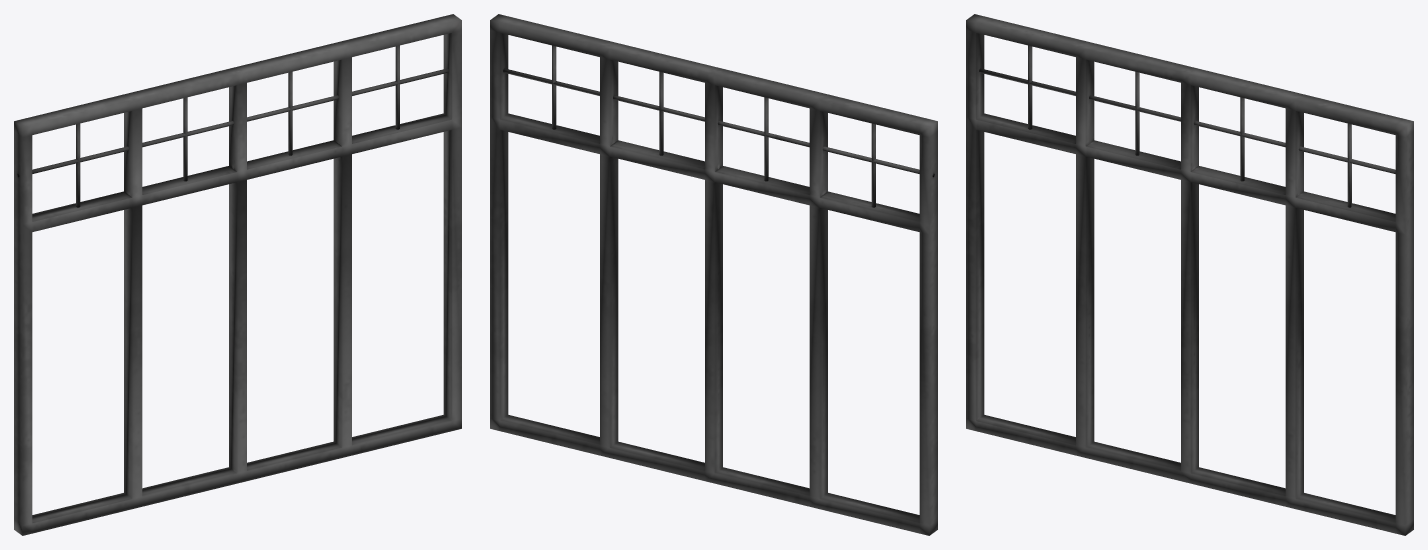
The model's file is Window_4x3_A.glb.
The picture shows the model from 3 angles, left to right: view 1: azimuth 30°, elevation 25°; view 2: azimuth 150°, elevation 25°; view 3: azimuth 330°, elevation 25°; orthographic projection.
Parts seen in each view (by area): view 1: Window_4x3_A.001; view 2: Window_4x3_A.001; view 3: Window_4x3_A.001.
Boxes of the visible parts, <box> form: Window_4x3_A.001: <box>14,14,461,535</box>; Window_4x3_A.001: <box>490,14,937,535</box>; Window_4x3_A.001: <box>966,14,1413,535</box>.
Bounding box in the file's own units: 1.8 × 1.6 × 0.06.
Materials: 2 (1 with a texture image).
